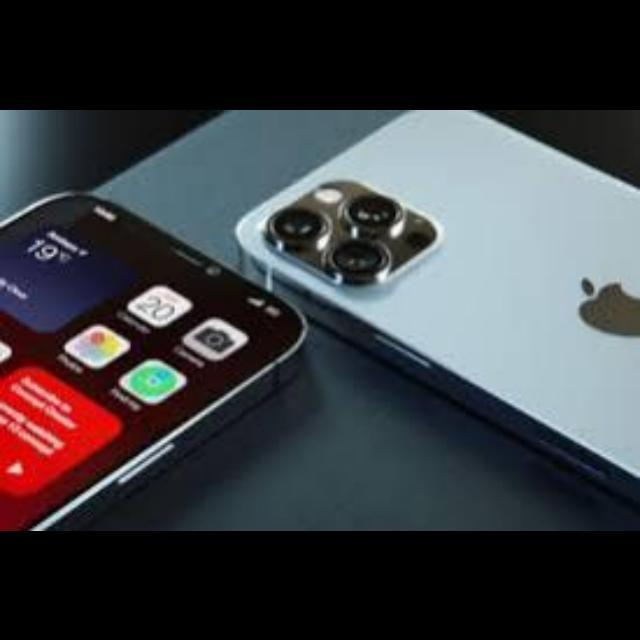Phone: (236, 109, 640, 495), (2, 190, 310, 530)
